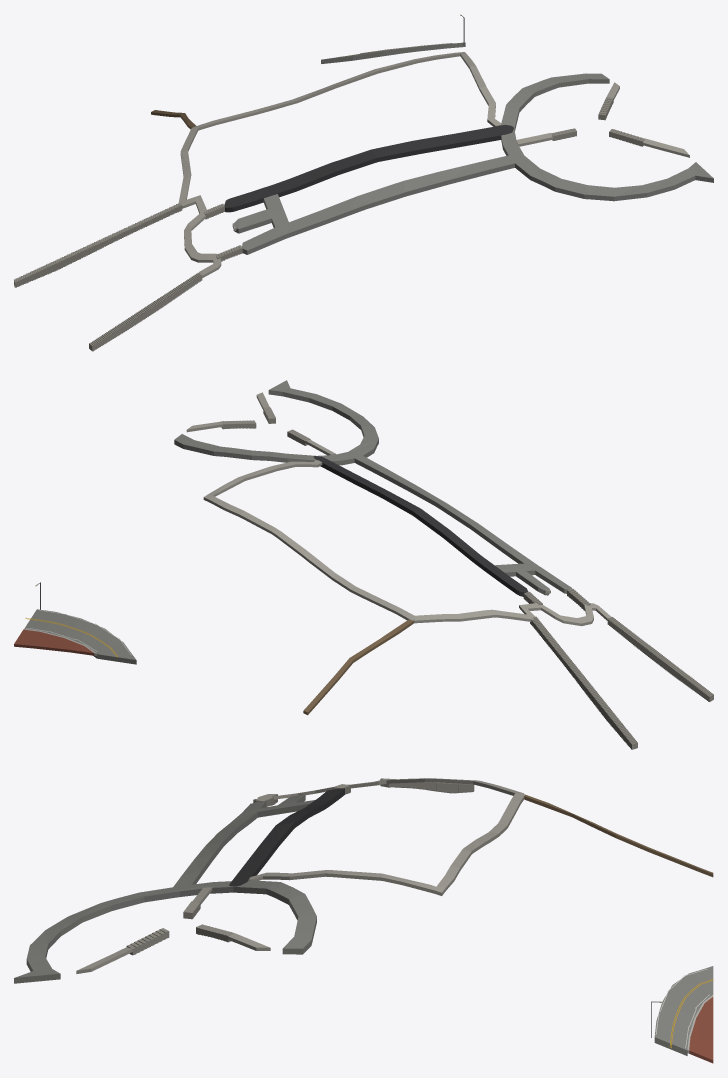
3 views of the same model, one above another, from view 1: azimuth 30°, elevation 25°; view 2: azimuth 150°, elevation 25°; view 3: azimuth 270°, elevation 25° (orthographic). The views are drawn at different scales.
Bounding box in the file's own units: 149 × 40.01 × 132.
